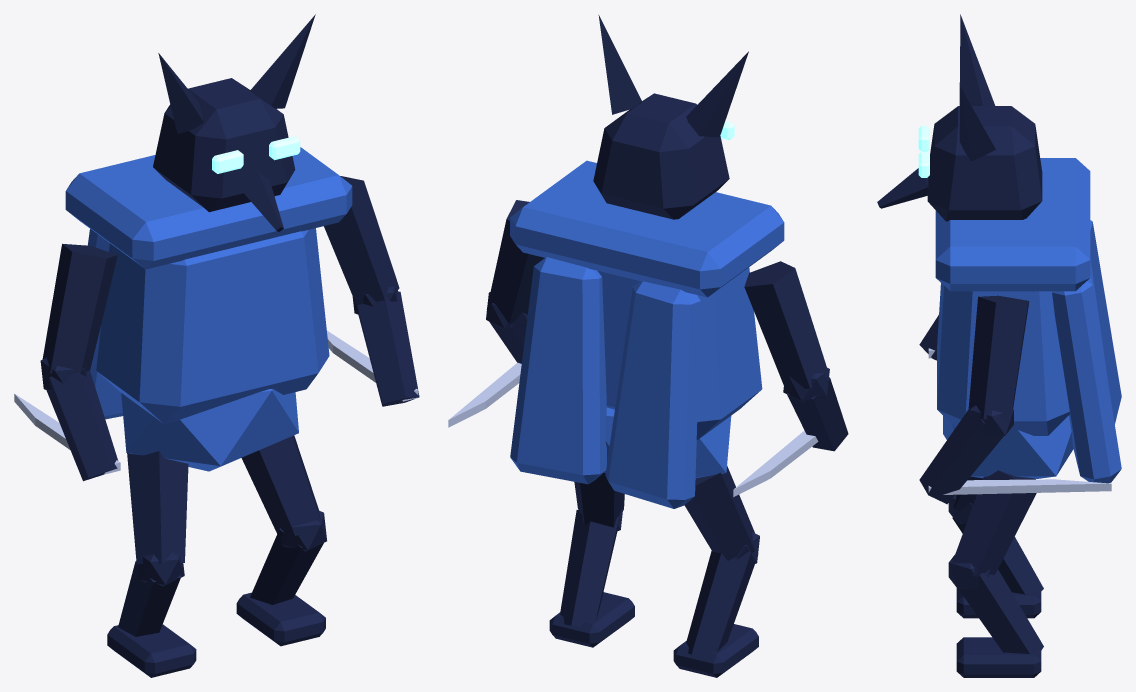
The model's file is BeetleWarrior.fbx.
3 renders of one model, left to right at view 1: azimuth 30°, elevation 25°; view 2: azimuth 150°, elevation 25°; view 3: azimuth 270°, elevation 25°, orthographic. The views are drawn at different scales.
Visible parts, largest first — view 1: Torso, Head, LegL, ArmL, LegR, ArmR, Elytra, Eyes, BladeL, BladeR; view 2: Elytra, Torso, Head, LegL, ArmL, LegR, ArmR, BladeL, BladeR; view 3: Torso, Head, LegR, Elytra, ArmR, LegL, BladeR, Eyes, ArmL.
Boxes of the visible parts, <box> form: Torso: <box>65,147,352,471</box>; Head: <box>153,14,315,231</box>; LegL: <box>107,451,196,677</box>; ArmL: <box>40,243,118,481</box>; LegR: <box>236,435,326,646</box>; ArmR: <box>324,176,419,406</box>; Elytra: <box>87,229,122,419</box>; Eyes: <box>212,136,300,173</box>; BladeL: <box>14,394,120,474</box>; BladeR: <box>327,330,418,401</box>; Elytra: <box>510,257,700,508</box>; Torso: <box>510,160,784,478</box>; Head: <box>593,15,748,219</box>; LegL: <box>673,465,759,677</box>; ArmL: <box>744,261,848,451</box>; LegR: <box>549,472,634,647</box>; ArmR: <box>486,200,544,363</box>; BladeL: <box>733,430,818,497</box>; BladeR: <box>448,362,521,427</box>; Torso: <box>935,158,1090,478</box>; Head: <box>877,14,1042,221</box>; LegR: <box>948,470,1043,677</box>; Elytra: <box>1052,220,1121,483</box>; ArmR: <box>919,295,1029,504</box>; LegL: <box>948,476,1043,618</box>; BladeR: <box>928,479,1111,494</box>; Eyes: <box>918,125,929,177</box>; ArmL: <box>919,315,938,360</box>.
Bounding box in the file's own units: 2.73 × 4.62 × 1.74.
